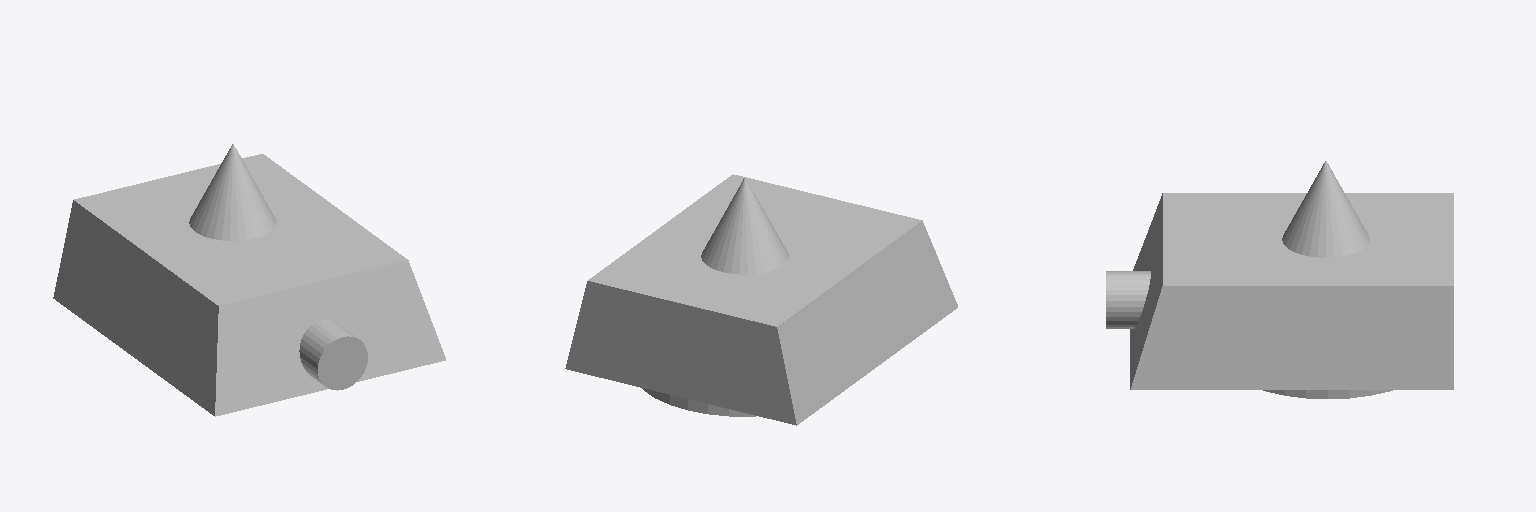
The model's file is wieza.obj.
3 renders of one model, left to right at view 1: azimuth 30°, elevation 25°; view 2: azimuth 150°, elevation 25°; view 3: azimuth 270°, elevation 25°, orthographic.
Parts seen in each view (by area): view 1: Cylinder, Cone; view 2: Cylinder, Cone; view 3: Cylinder, Cone.
Part boxes in pixels (x1,y1,x2,y2): Cylinder: (53,154,445,416); Cone: (189,144,276,240); Cylinder: (565,174,957,425); Cone: (701,178,788,274); Cylinder: (1106,193,1453,398); Cone: (1282,161,1369,257).
Bounding box in the file's own units: 2 × 1.58 × 2.6.